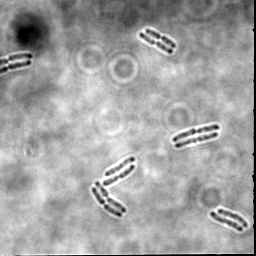Dividing: (94, 181, 126, 214), (90, 186, 123, 218), (170, 124, 220, 143), (138, 31, 174, 55), (174, 132, 219, 150), (102, 163, 135, 186), (209, 211, 243, 233), (144, 27, 177, 49), (216, 208, 248, 229), (104, 156, 136, 177), (1, 59, 32, 76), (1, 52, 33, 67)
